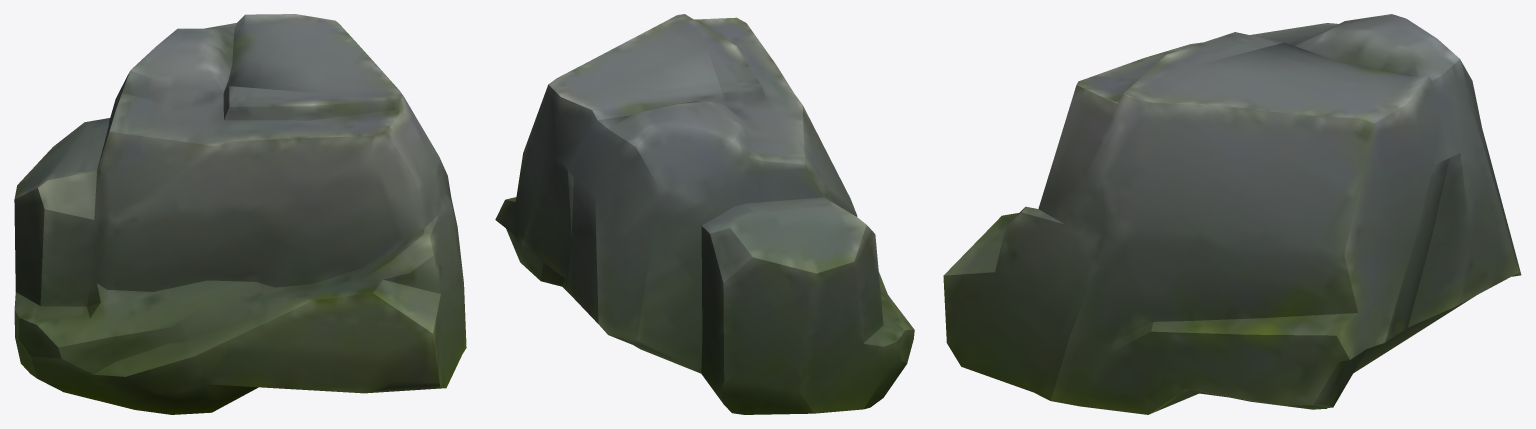
Rendered from rock-3.glb.
3 views of the same model, side by side, from view 1: azimuth 30°, elevation 25°; view 2: azimuth 150°, elevation 25°; view 3: azimuth 270°, elevation 25° (orthographic). The views are drawn at different scales.
Parts seen in each view (by area): view 1: Rock_Medium_3; view 2: Rock_Medium_3; view 3: Rock_Medium_3.
Boxes of the visible parts, x1,y1,x2,y2 form: Rock_Medium_3: [14, 14, 466, 414]; Rock_Medium_3: [495, 14, 914, 414]; Rock_Medium_3: [943, 14, 1521, 414].
Size of the model in its own units: 3.42 by 2.32 by 3.48.
Materials: 1 (1 with a texture image).
